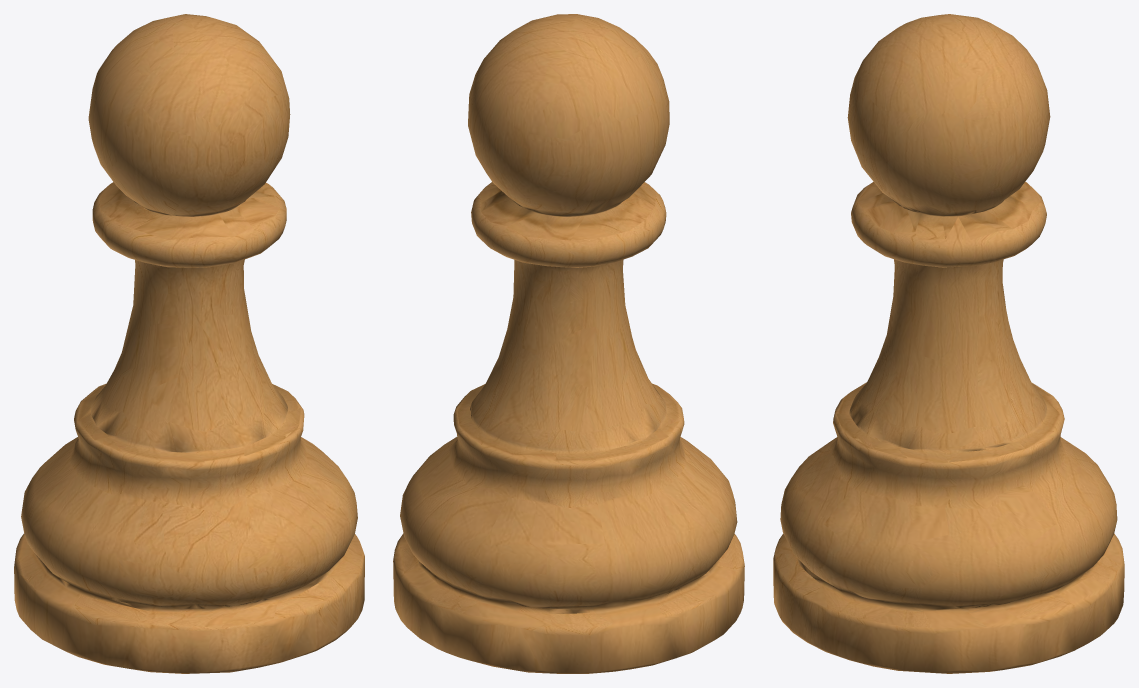
The model's file is peon.obj.
3 views of the same model, side by side, from view 1: azimuth 30°, elevation 25°; view 2: azimuth 150°, elevation 25°; view 3: azimuth 270°, elevation 25° (orthographic).
Visible parts, largest first — view 1: Meshy_AI_staunton_chess_pawn_3_0926012037_image-to-3d-texture; view 2: Meshy_AI_staunton_chess_pawn_3_0926012037_image-to-3d-texture; view 3: Meshy_AI_staunton_chess_pawn_3_0926012037_image-to-3d-texture.
Boxes of the visible parts, x1,y1,x2,y2 form: Meshy_AI_staunton_chess_pawn_3_0926012037_image-to-3d-texture: (14,14,364,673); Meshy_AI_staunton_chess_pawn_3_0926012037_image-to-3d-texture: (393,14,744,673); Meshy_AI_staunton_chess_pawn_3_0926012037_image-to-3d-texture: (773,14,1124,673).
Bounding box in the file's own units: 0.0358 × 0.065 × 0.0358.
1 material, 1 textured.
